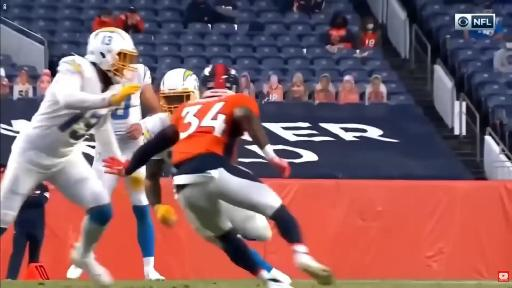Helmet: (86, 28, 137, 82), (160, 69, 199, 113), (201, 64, 239, 93)
Jersey: (13, 56, 119, 169), (172, 94, 259, 164), (111, 91, 141, 134), (139, 113, 170, 141)
Player: (104, 65, 333, 284), (0, 28, 140, 285), (111, 64, 160, 158), (138, 69, 199, 139), (146, 152, 169, 205)
